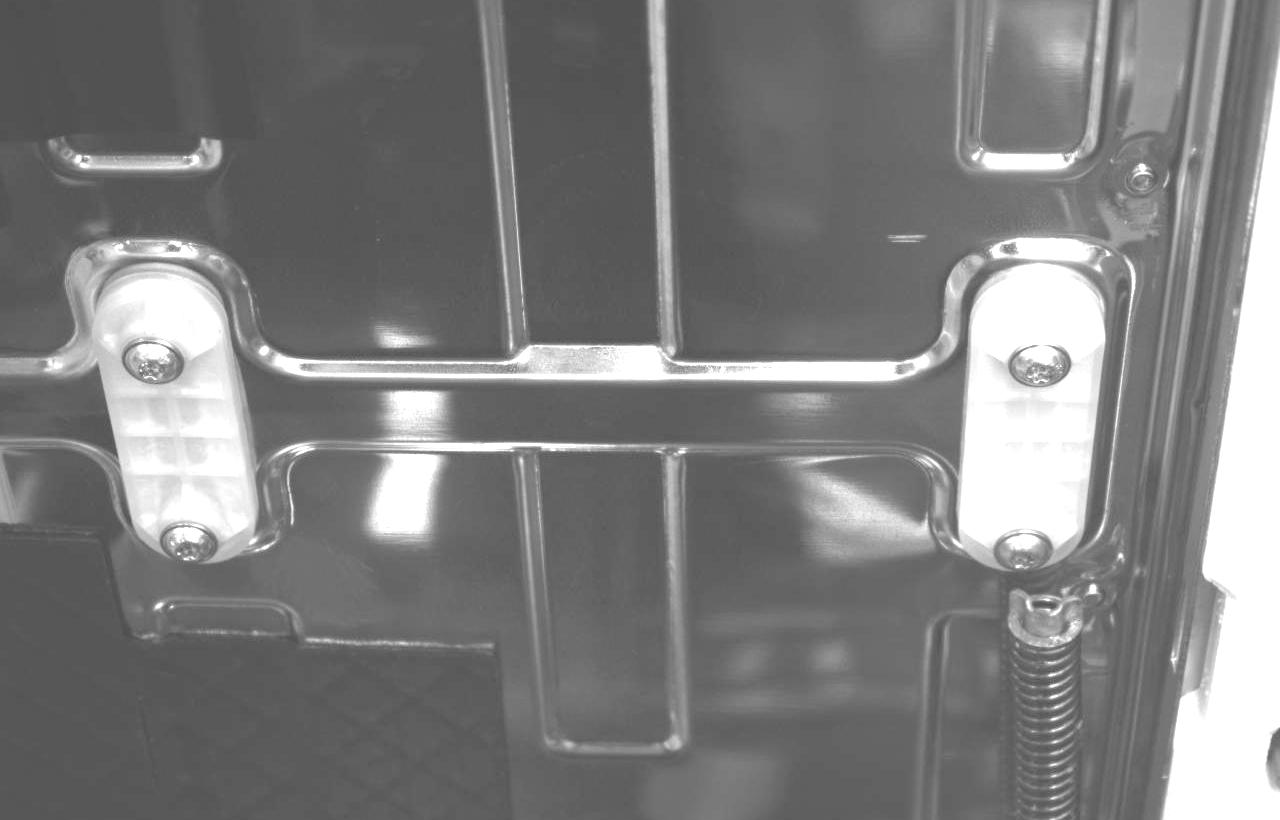vida-ok: (120, 328, 191, 395), (1007, 332, 1074, 399), (994, 518, 1060, 577), (160, 511, 226, 569)
